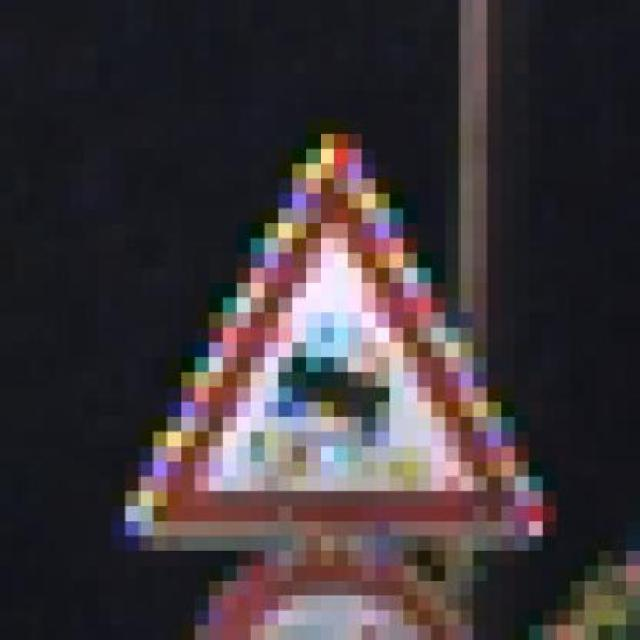Slippery Road Ahead: (111, 104, 571, 550)
